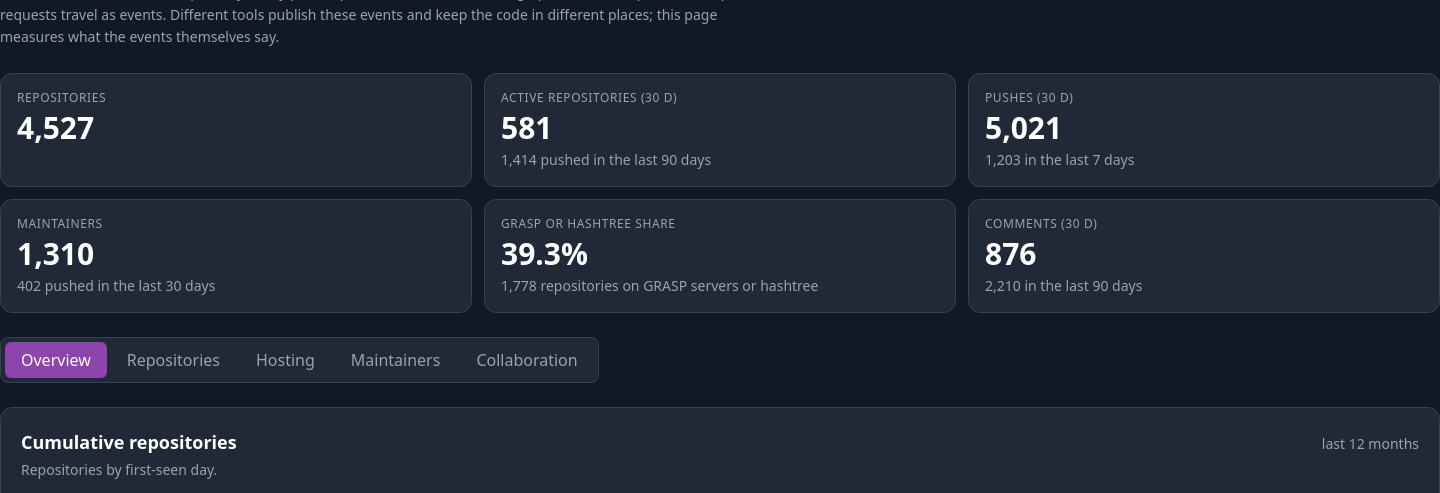
Test: /git hosting and maintainers › explains every hosting class beside the donut
Click the link with id "tab-hosting" at {"x": 285, "y": 360}, box [256,349,315,371]
(page scrolled)
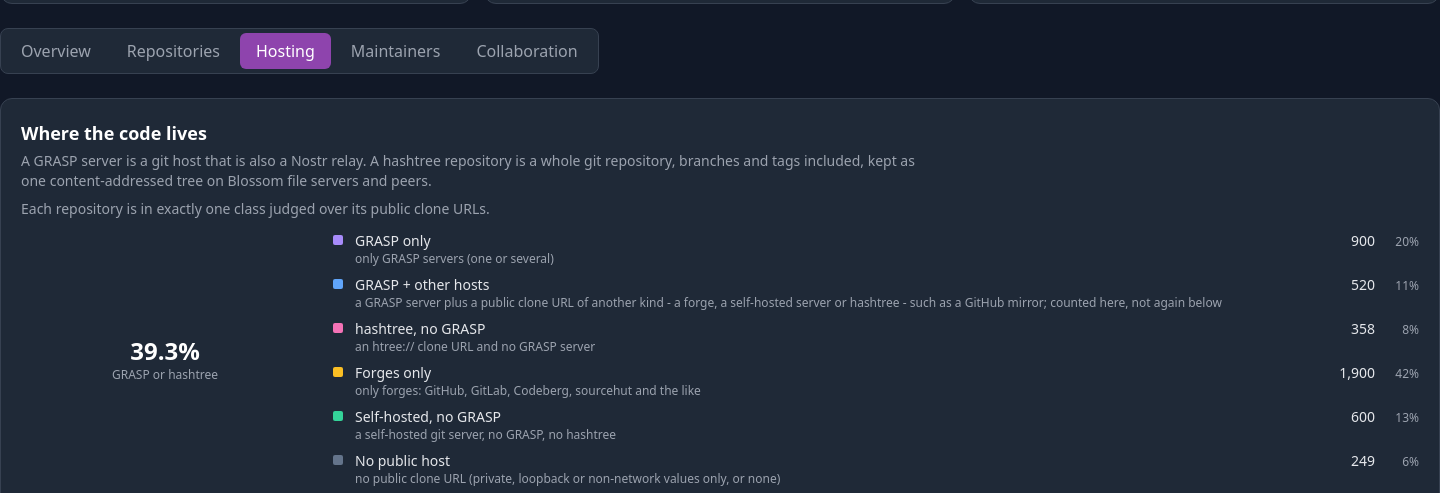
Expected: the element that starts with "Where the code lives" shows "GRASP only", [355,231,430,250]
Expected: the element that starts with "Where the code lives" shows "GRASP + other hosts", [355,275,489,294]
Expected: the element that starts with "Where the code lives" shows "hashtree, no GRASP", [355,319,485,338]
